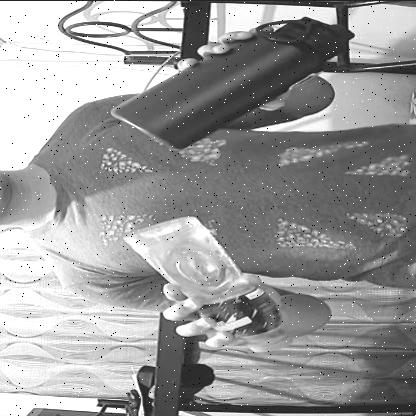Plastic Bottle: (120, 214, 301, 366)
